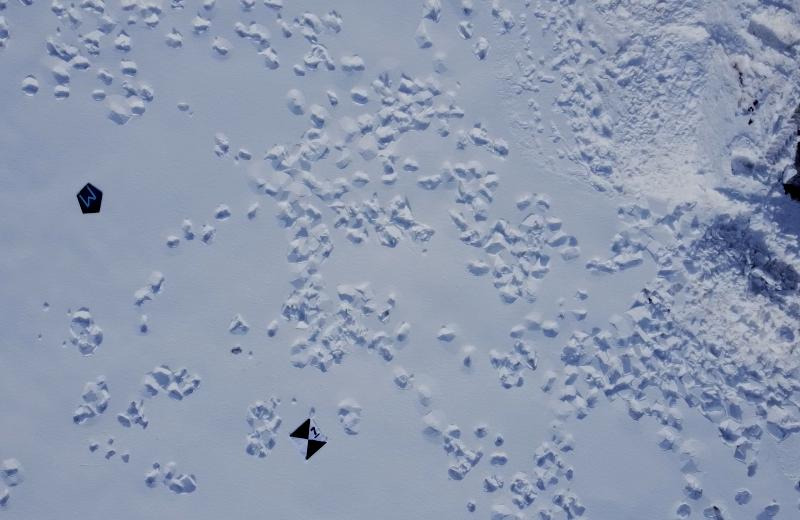Pentagon: (76, 179, 105, 217)
